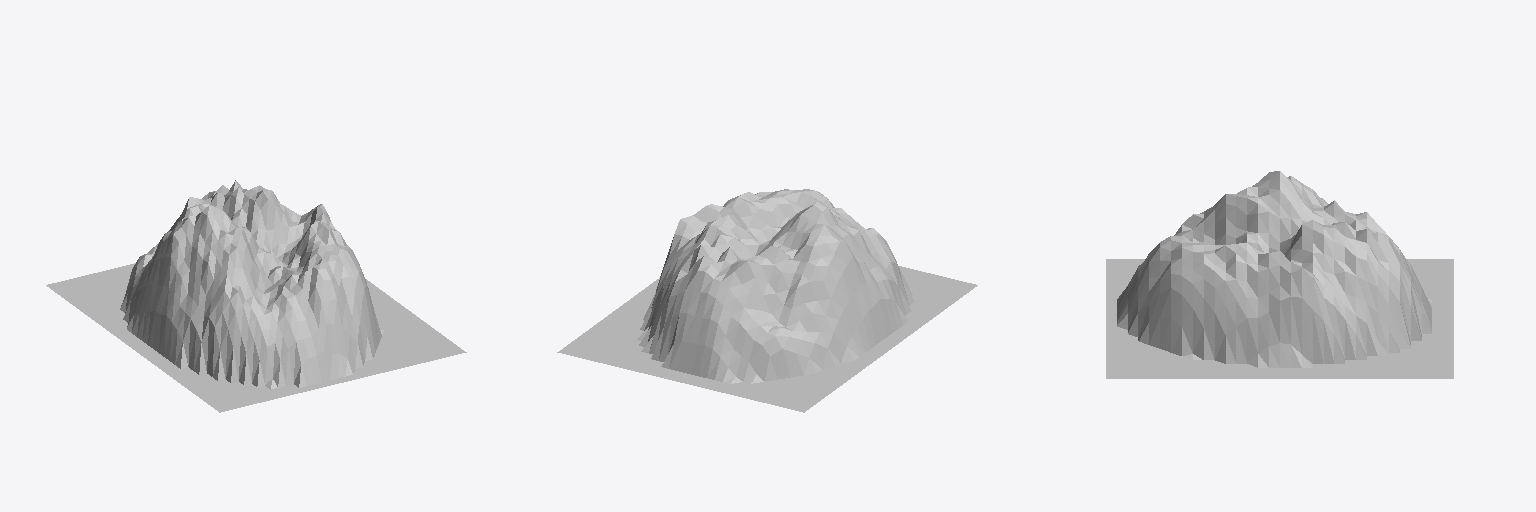
The model's file is mou_008.obj.
The picture shows the model from 3 angles: view 1: azimuth 30°, elevation 25°; view 2: azimuth 150°, elevation 25°; view 3: azimuth 270°, elevation 25°; orthographic projection.
Parts seen in each view (by area): view 1: 平面.002; view 2: 平面.002; view 3: 平面.002.
Boxes of the visible parts, <box> form: 平面.002: <box>46,180,466,412</box>; 平面.002: <box>557,189,977,412</box>; 平面.002: <box>1106,171,1453,378</box>.
Bounding box in the file's own units: 6.19 × 3.01 × 7.57.